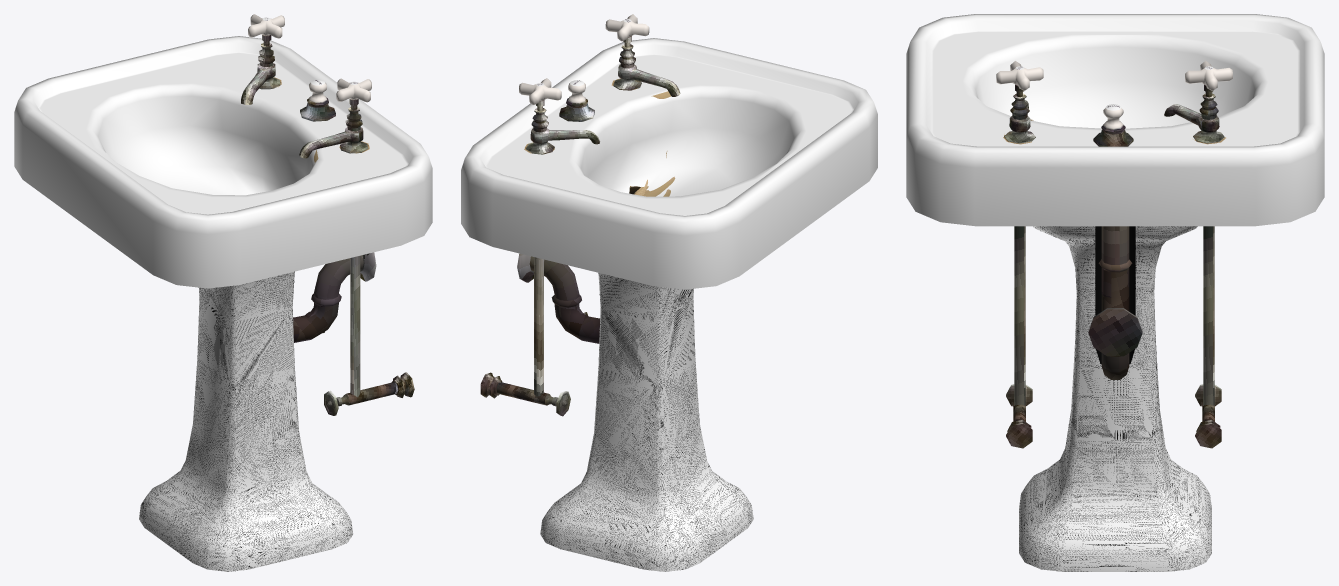
3 views of the same model, side by side, from view 1: azimuth 30°, elevation 25°; view 2: azimuth 150°, elevation 25°; view 3: azimuth 270°, elevation 25° (orthographic). The views are drawn at different scales.
Parts seen in each view (by area): view 1: SketchUp (×6), faucet (×2), Faucet_Part (×2), faucet_2, faucet_1; view 2: SketchUp (×7), faucet (×2), Faucet_Part (×2), faucet_1, faucet_2; view 3: SketchUp (×9), Faucet_Part (×4), faucet (×2), faucet_2, faucet_1.
Part boxes in pixels (x1,y1,x2,y2): SketchUp (×6): (14, 36, 432, 571); faucet (×2): (241, 48, 368, 158); Faucet_Part (×2): (341, 256, 398, 405); faucet_2: (248, 14, 284, 38); faucet_1: (336, 78, 371, 102); SketchUp (×7): (461, 38, 877, 571); faucet (×2): (526, 49, 680, 154); Faucet_Part (×2): (496, 257, 553, 405); faucet_1: (605, 14, 649, 41); faucet_2: (519, 78, 561, 105); SketchUp (×9): (906, 14, 1324, 571); Faucet_Part (×4): (1006, 226, 1221, 448); faucet (×2): (1004, 99, 1224, 143); faucet_2: (1185, 60, 1232, 90); faucet_1: (996, 61, 1043, 90).
Bounding box in the file's own units: 21.38 × 26 × 34.09.
26 materials, 22 textured.
